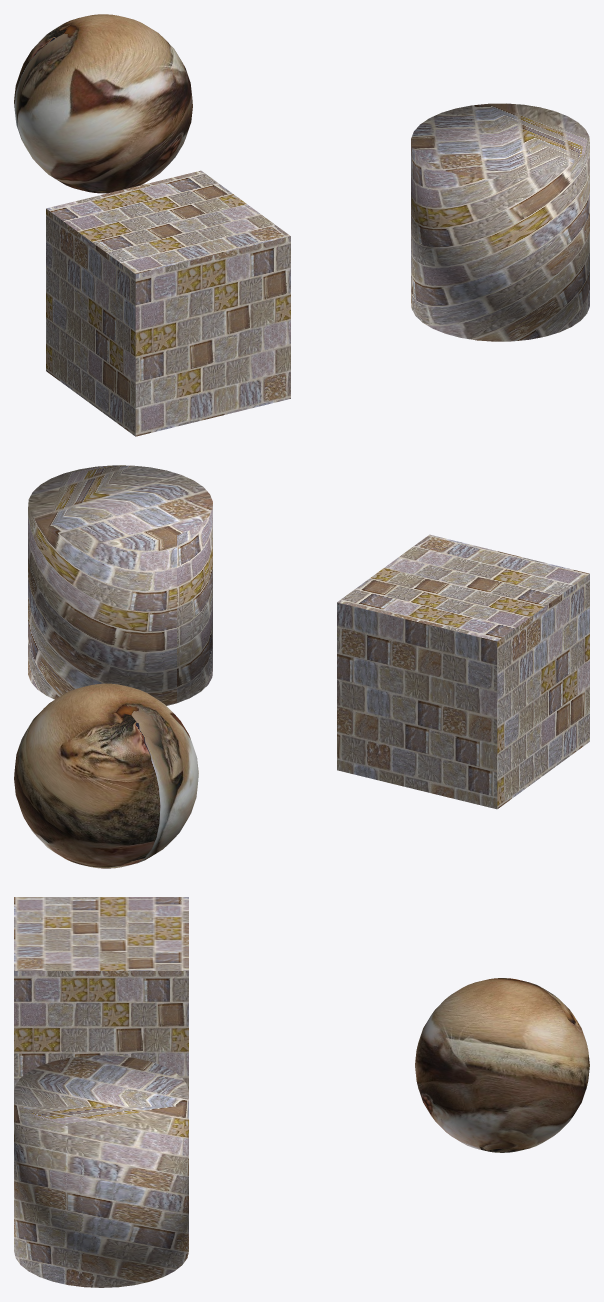
Rendered from threeobjstexture_startingdeleted.obj.
3 views of the same model, one above another, from view 1: azimuth 30°, elevation 25°; view 2: azimuth 150°, elevation 25°; view 3: azimuth 270°, elevation 25° (orthographic). The views are drawn at different scales.
Visible parts, largest first — view 1: Cube, Cylinder, Sphere; view 2: Cube, Cylinder, Sphere; view 3: Cylinder, Cube, Sphere.
Boxes of the visible parts, x1,y1,x2,y2 form: Cube: [46, 170, 290, 436]; Cylinder: [411, 103, 589, 341]; Sphere: [14, 14, 192, 193]; Cube: [337, 534, 589, 809]; Cylinder: [28, 465, 212, 705]; Sphere: [14, 683, 198, 868]; Cylinder: [14, 1055, 188, 1287]; Cube: [14, 897, 188, 1091]; Sphere: [415, 978, 589, 1152].
Bounding box in the file's own units: 6.27 × 2.19 × 6.58.
Materials: 2 (2 with a texture image).
